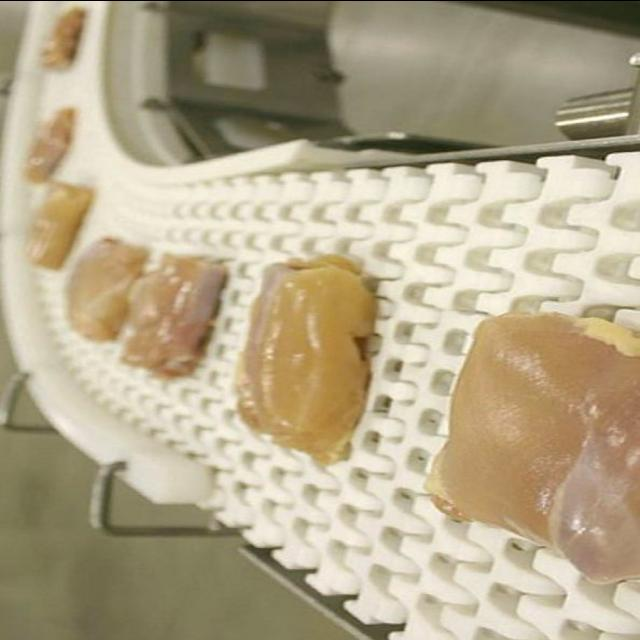food: (422, 310, 638, 586), (230, 253, 376, 465), (115, 252, 228, 380)
